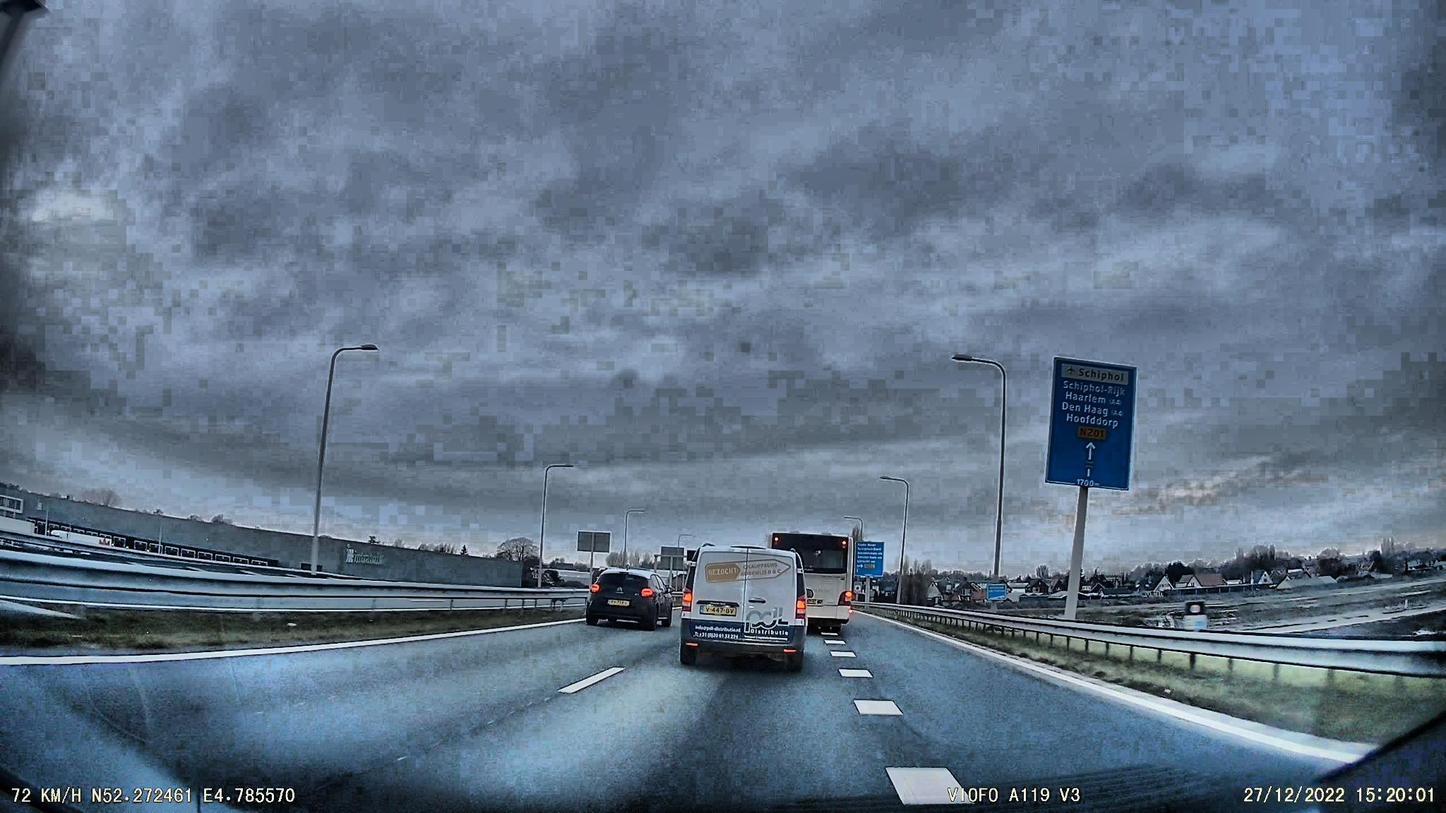Roads: (0, 619, 1329, 813)
